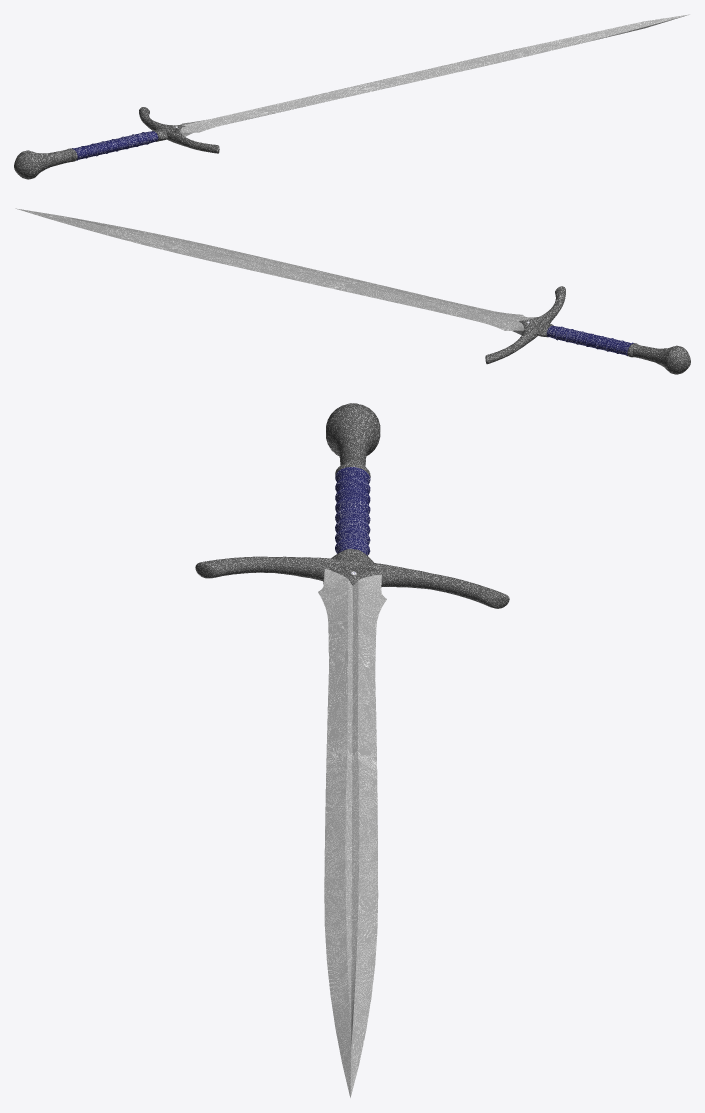
File: sword.fbx
3 views of the same model, one above another, from view 1: azimuth 30°, elevation 25°; view 2: azimuth 150°, elevation 25°; view 3: azimuth 270°, elevation 25° (orthographic). The views are drawn at different scales.
Visible parts, largest first — view 1: Blade1, Butt1, Grip1, Hilt1; view 2: Blade1, Hilt1, Butt1, Grip1; view 3: Blade1, Hilt1, Grip1, Butt1.
Boxes of the visible parts, left/top/right/bottom form: Blade1: left=171, top=14, right=689, bottom=136; Butt1: left=14, top=148, right=77, bottom=179; Grip1: left=72, top=131, right=158, bottom=160; Hilt1: left=139, top=107, right=219, bottom=153; Blade1: left=15, top=208, right=537, bottom=335; Hilt1: left=485, top=286, right=565, bottom=364; Butt1: left=627, top=343, right=690, bottom=374; Grip1: left=546, top=325, right=633, bottom=356; Blade1: left=318, top=568, right=386, bottom=1097; Hilt1: left=195, top=549, right=509, bottom=608; Grip1: left=335, top=467, right=370, bottom=555; Butt1: left=326, top=403, right=380, bottom=477.
Size of the model in its own units: 47.98 by 1.82 by 9.67.
